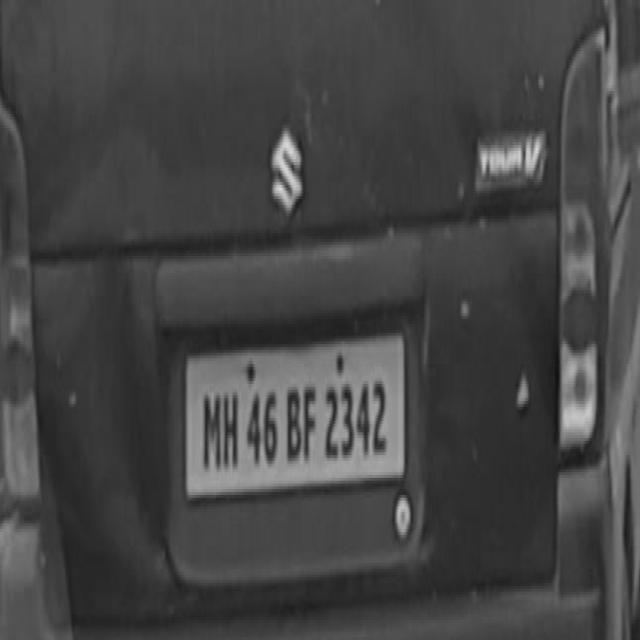license-plate: (185, 330, 404, 498)
